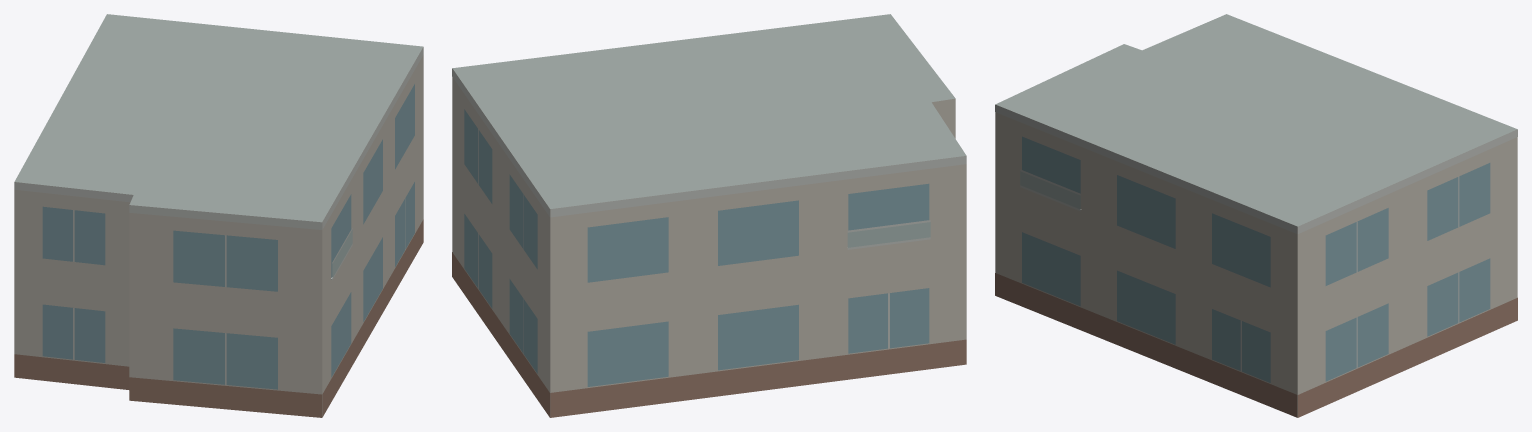
Rendered from survey-upis-32892670.glb.
3 views of the same model, side by side, from view 1: azimuth 30°, elevation 25°; view 2: azimuth 150°, elevation 25°; view 3: azimuth 270°, elevation 25° (orthographic). The views are drawn at different scales.
Parts seen in each view (by area): view 1: survey-upis-32892670.tmp; view 2: survey-upis-32892670.tmp; view 3: survey-upis-32892670.tmp.
Boxes of the visible parts, bbox=[...] form: survey-upis-32892670.tmp: bbox=[14, 14, 423, 417]; survey-upis-32892670.tmp: bbox=[452, 14, 966, 417]; survey-upis-32892670.tmp: bbox=[995, 14, 1517, 417].
Size of the model in its own units: 14.55 by 6.1 by 15.11.
